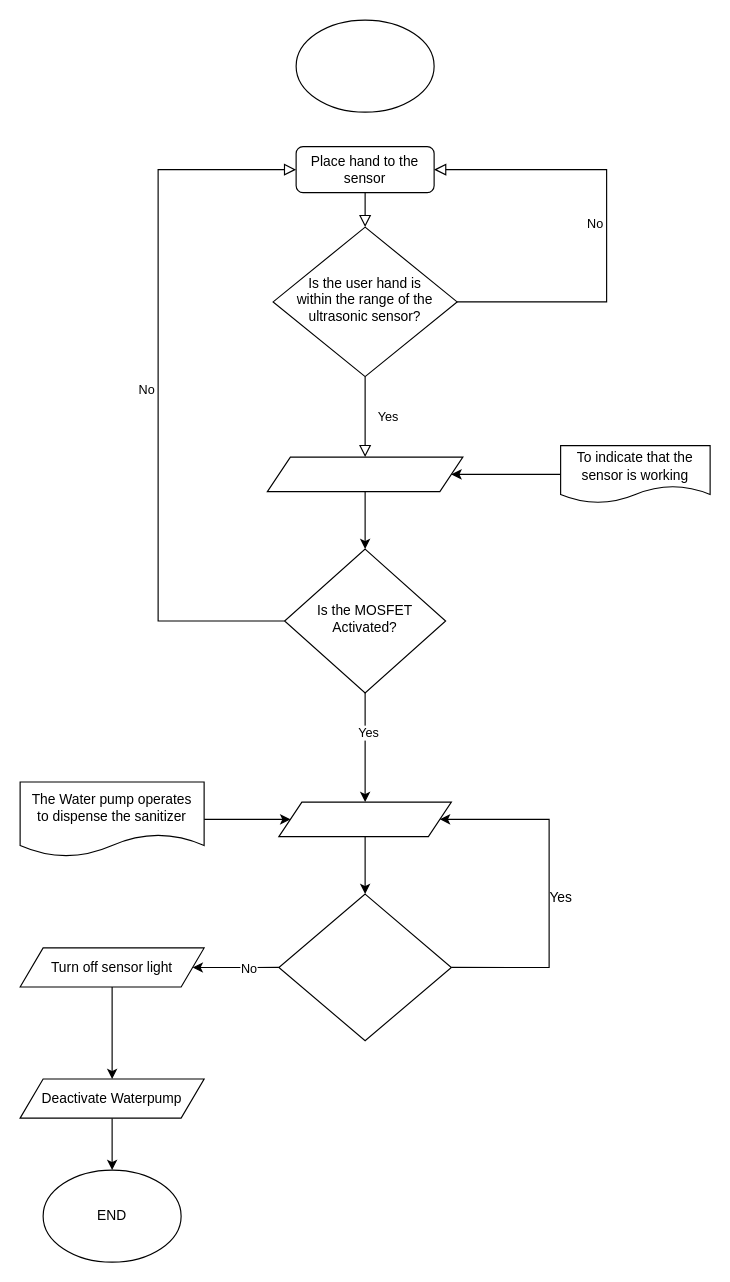
This 730x1282 diagram has some shape labels left out. The shapes that lost their labels are listed below. From the top down, each one's box as (x1, y1, x2, y2) in pixels, then its label:
(295, 19, 434, 112): Start
(266, 456, 463, 492): Sensor Light Activated
(278, 801, 451, 837): Dispensing Sanitizer
(278, 893, 451, 1041): Is the user's hand still within the range of the sensor?
